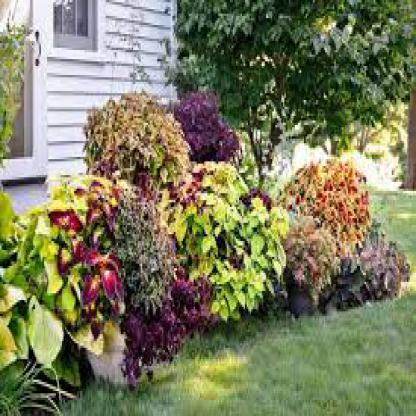Bunga Coleus: (175, 149, 288, 331), (99, 113, 195, 210), (298, 167, 373, 276)
